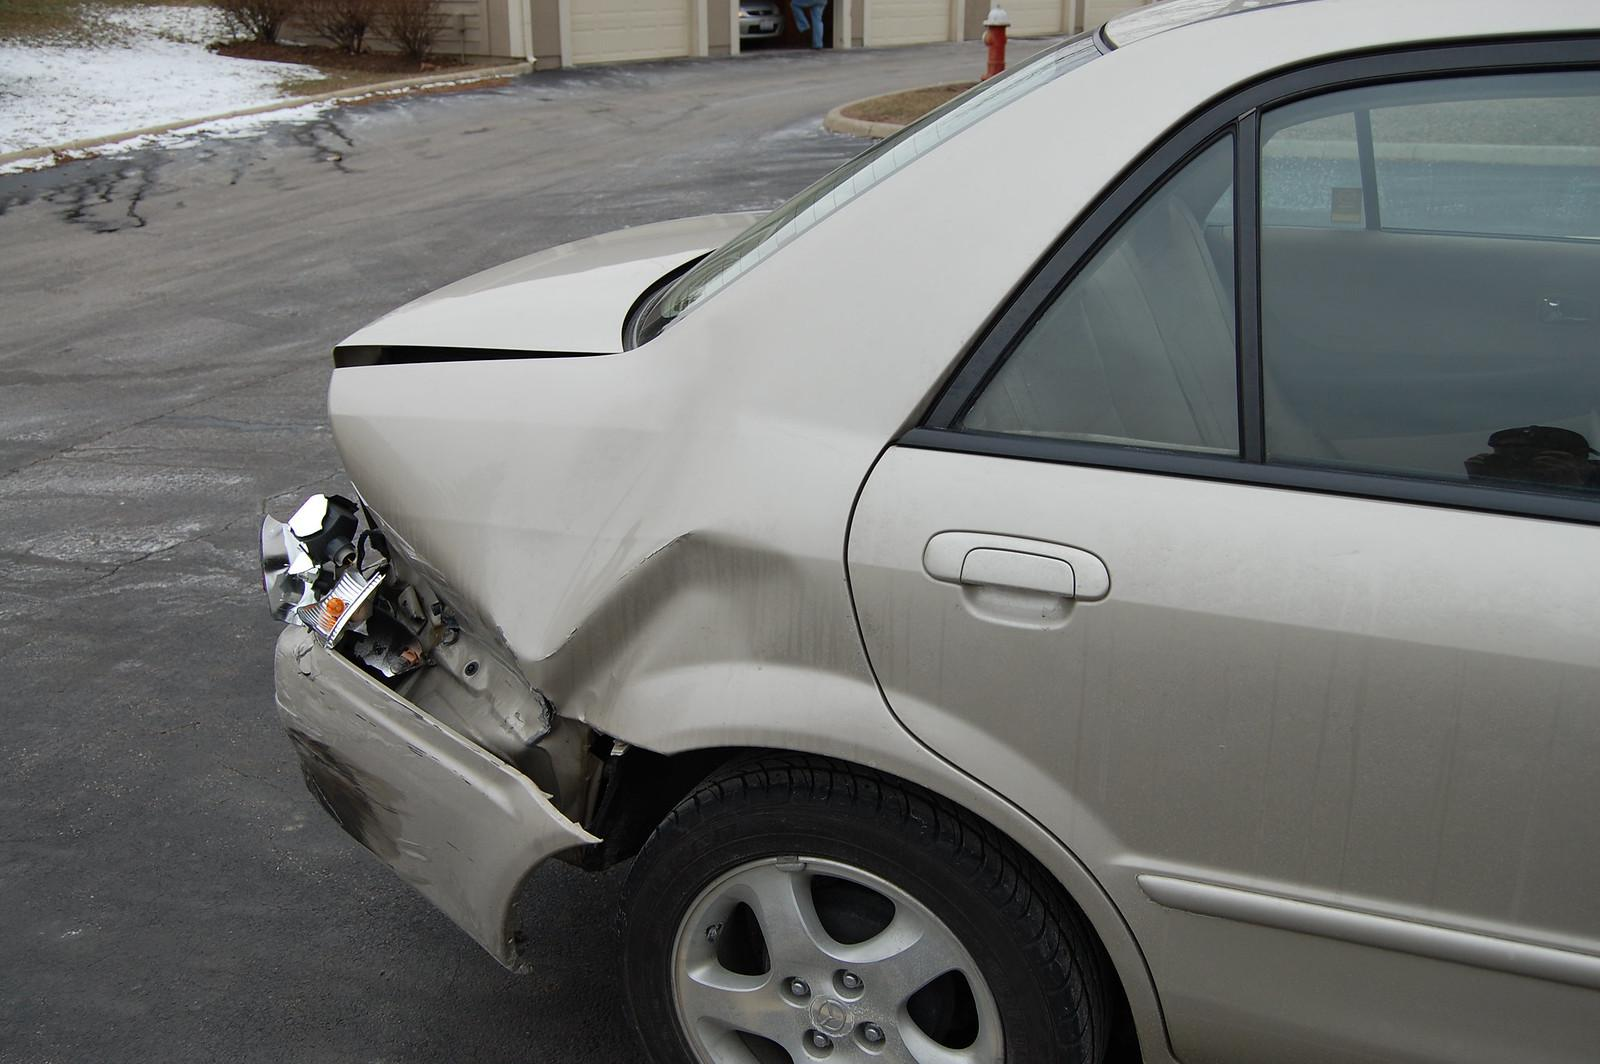quaterpanel-dent: (558, 367, 925, 780)
rear-bumper-dent: (206, 525, 523, 845)
